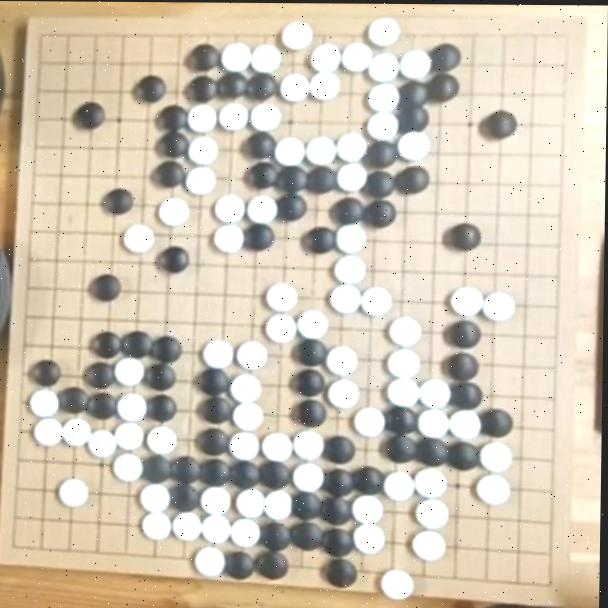corners: (522, 558, 570, 597), (541, 17, 588, 52), (34, 15, 67, 60), (1, 531, 39, 557)
